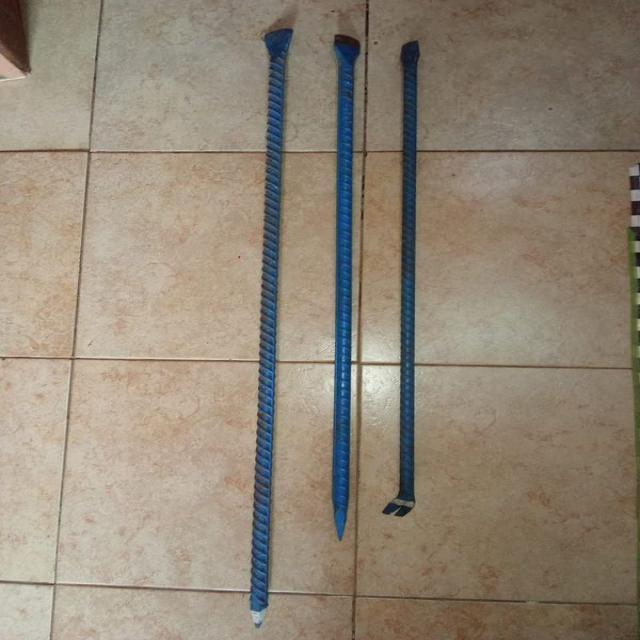Linggis: (230, 4, 310, 640), (380, 28, 428, 520), (324, 30, 364, 548)
